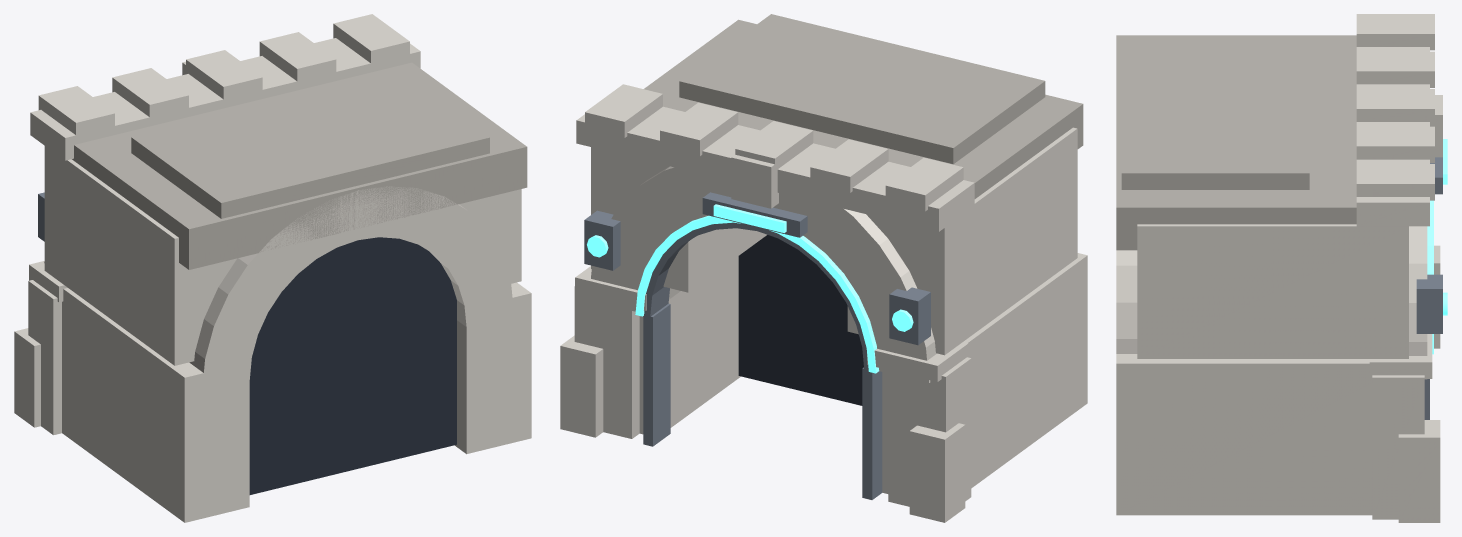
File: tunnel_arch.glb
3 renders of one model, left to right at view 1: azimuth 30°, elevation 25°; view 2: azimuth 150°, elevation 25°; view 3: azimuth 270°, elevation 25°, orthographic. The views are drawn at different scales.
Visible parts, largest first — view 1: TunnelArchPhotoreal; view 2: TunnelArchPhotoreal; view 3: TunnelArchPhotoreal.
Boxes of the visible parts, box(x1,y1,x2,y2) form: TunnelArchPhotoreal: box(14, 14, 531, 522); TunnelArchPhotoreal: box(560, 14, 1087, 522); TunnelArchPhotoreal: box(1116, 14, 1447, 522).
Size of the model in its own units: 0.87 by 0.6925 by 0.634.
